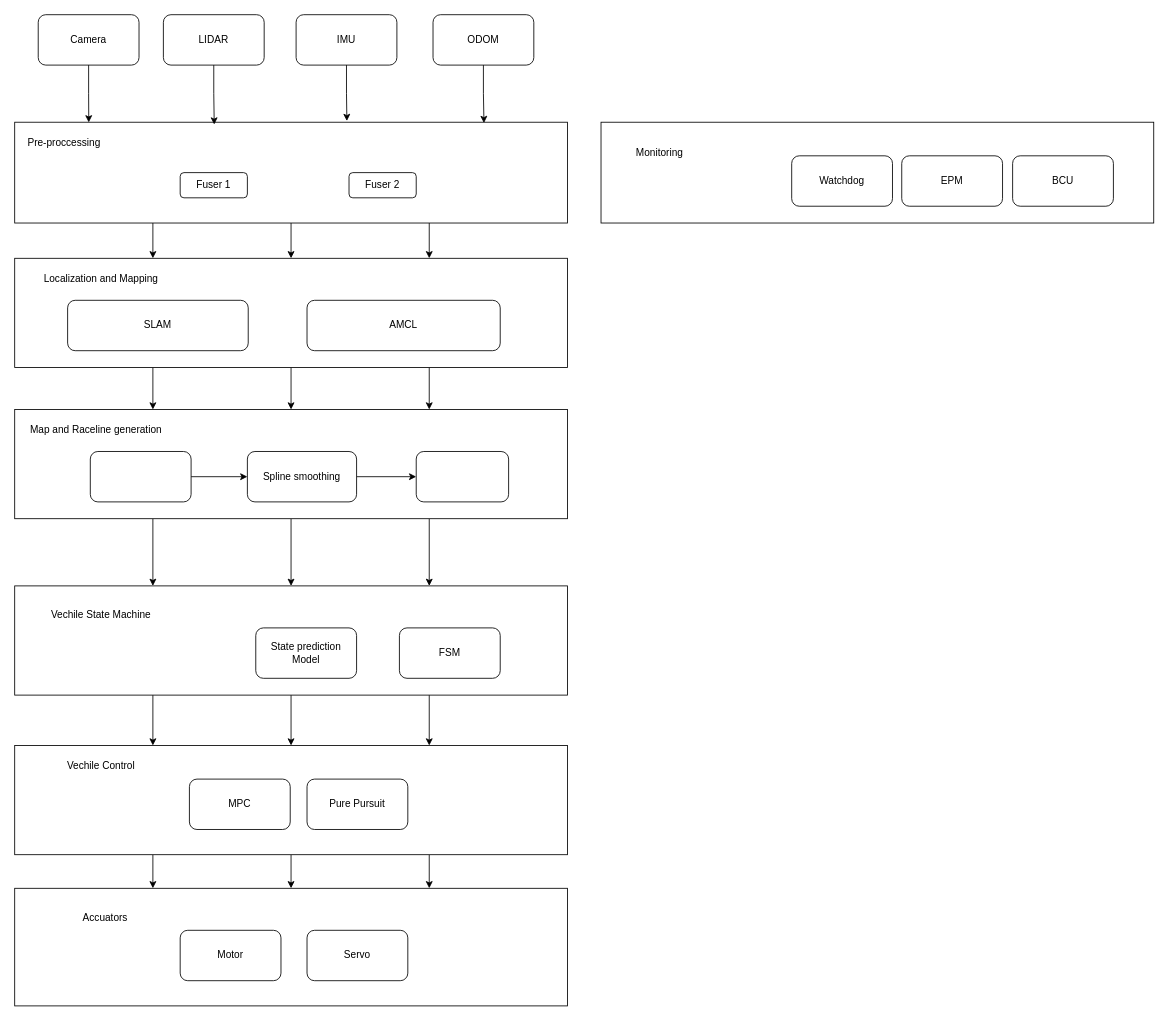
Some shapes in this 1168 by 1021 pixel diagram are drawn without their labels. Each missing label, with the centre of its shape:
"Map midline generation" goes at point 140,476.
"Optimal racing line generation" goes at point 462,476.
